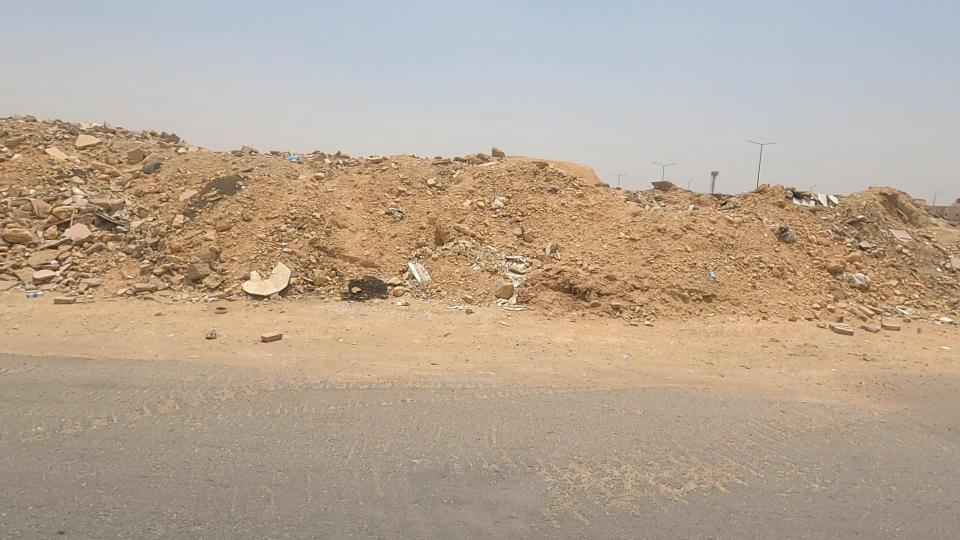GARBAGE: (392, 194, 576, 316), (198, 230, 360, 348), (368, 225, 476, 315), (319, 239, 406, 341), (743, 163, 866, 231), (8, 238, 87, 332), (344, 185, 436, 240), (262, 126, 331, 195)
